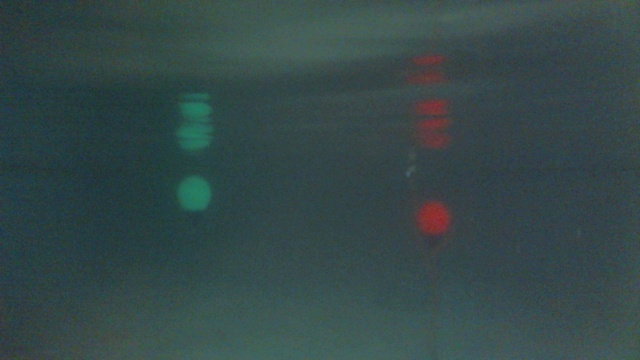buoy_green: (173, 172, 212, 228)
buoy_red: (414, 199, 449, 245)
